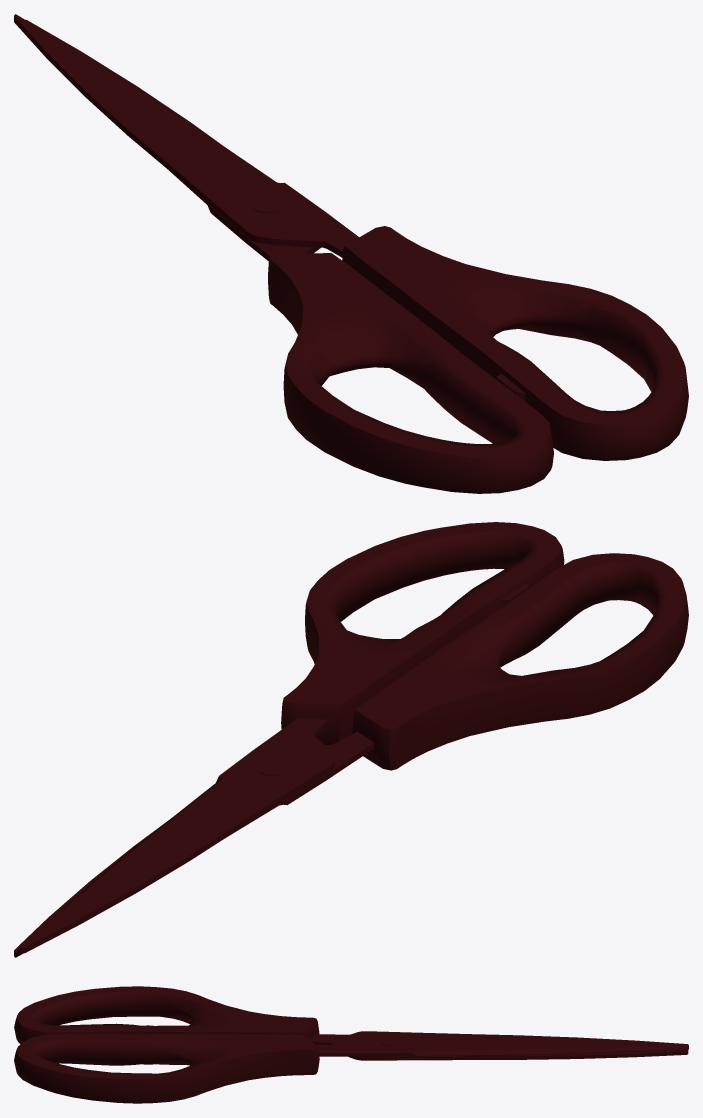
3 renders of one model, top to bottom at view 1: azimuth 30°, elevation 25°; view 2: azimuth 150°, elevation 25°; view 3: azimuth 270°, elevation 25°, orthographic. The views are drawn at different scales.
Bounding box in the file's own units: 0.3359 × 0.0438 × 1.
